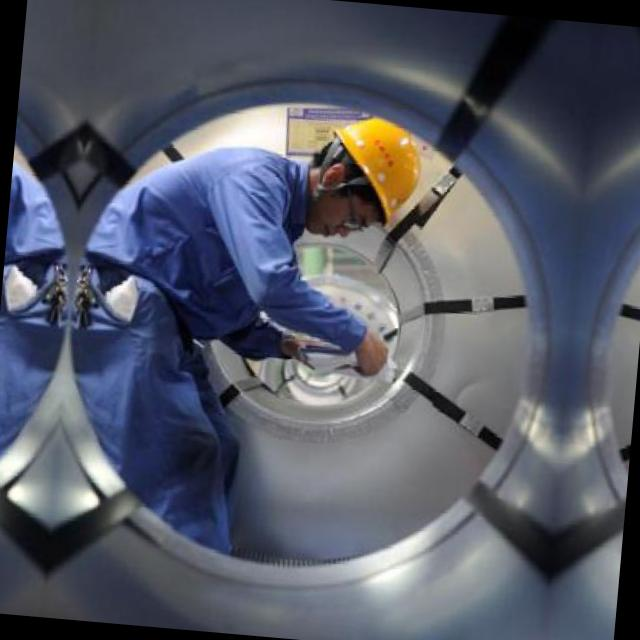helmet: (293, 95, 447, 248)
